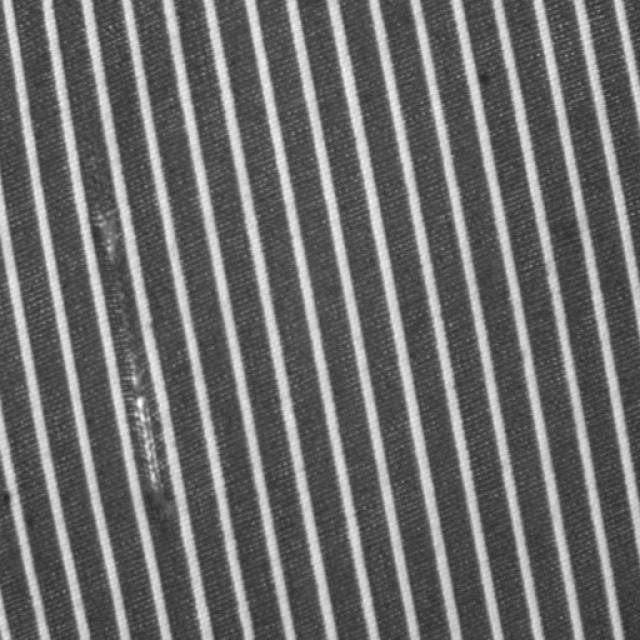Thread-Defect: (85, 179, 175, 521)
